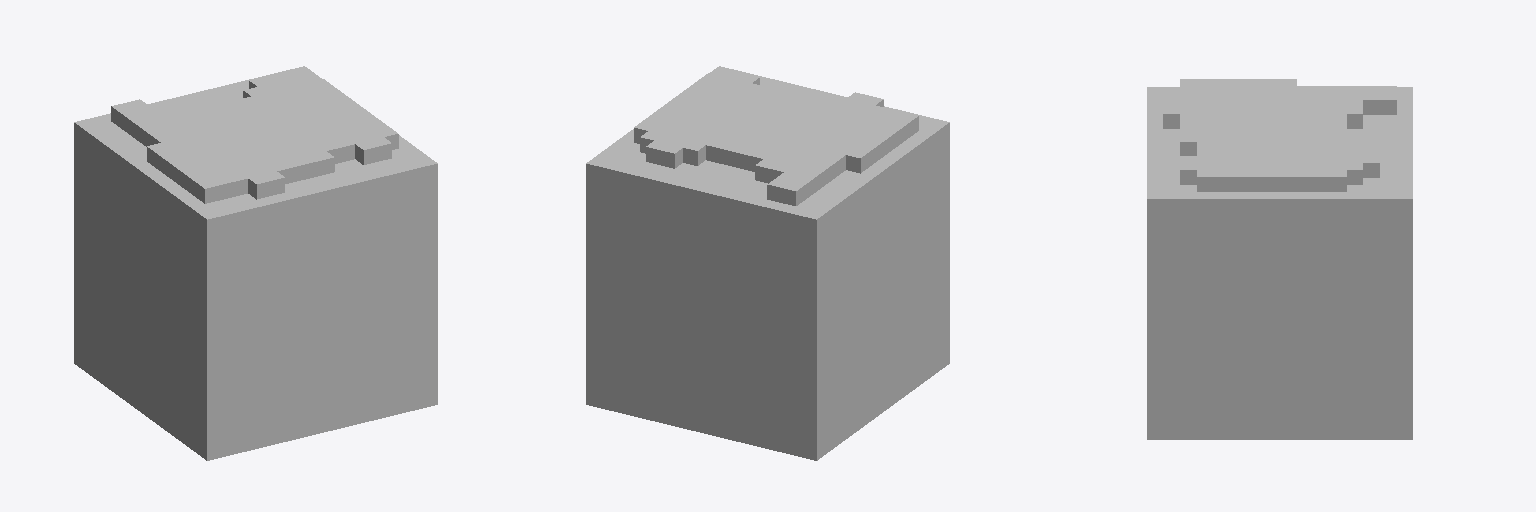
File: GrasBlock1.obj
3 views of the same model, side by side, from view 1: azimuth 30°, elevation 25°; view 2: azimuth 150°, elevation 25°; view 3: azimuth 270°, elevation 25° (orthographic).
Parts seen in each view (by area): view 1: cube; view 2: cube; view 3: cube.
Part boxes in pixels (left/top/right/bottom): cube: left=74, top=66, right=437, bottom=460; cube: left=586, top=66, right=949, bottom=460; cube: left=1147, top=79, right=1412, bottom=439.
Size of the model in its own units: 1 by 1.06 by 1.